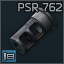AWC PSR 7.62x51 muzzle brake: (0, 0, 64, 64)
